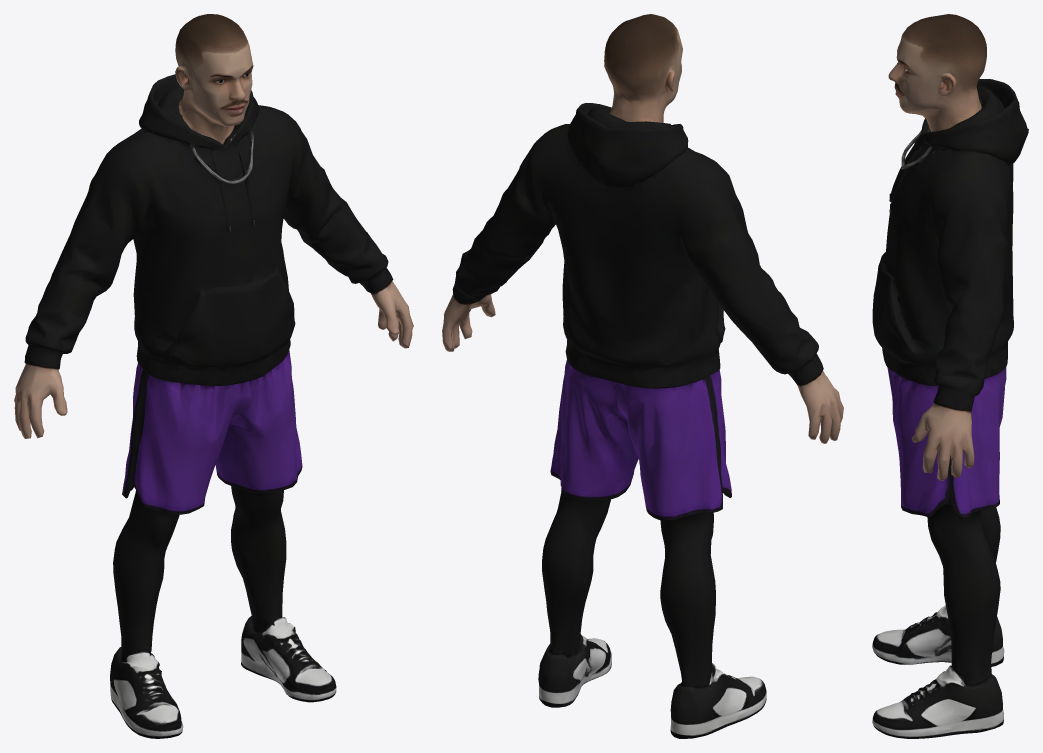
Rendered from rival_z.glb.
3 views of the same model, side by side, from view 1: azimuth 30°, elevation 25°; view 2: azimuth 150°, elevation 25°; view 3: azimuth 270°, elevation 25° (orthographic).
Visible parts, largest first — view 1: tripo_node_5918c073-7f87-4c73-97f9-e24bb3ab602a; view 2: tripo_node_5918c073-7f87-4c73-97f9-e24bb3ab602a; view 3: tripo_node_5918c073-7f87-4c73-97f9-e24bb3ab602a.
Part boxes in pixels (<box>): tripo_node_5918c073-7f87-4c73-97f9-e24bb3ab602a: <box>14,14,413,738</box>; tripo_node_5918c073-7f87-4c73-97f9-e24bb3ab602a: <box>442,14,843,738</box>; tripo_node_5918c073-7f87-4c73-97f9-e24bb3ab602a: <box>872,14,1028,738</box>.
Size of the model in its own units: 0.6015 by 1 by 0.2105.
1 material, 1 textured.
